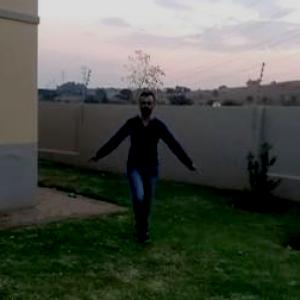land: (87, 83, 208, 238)
